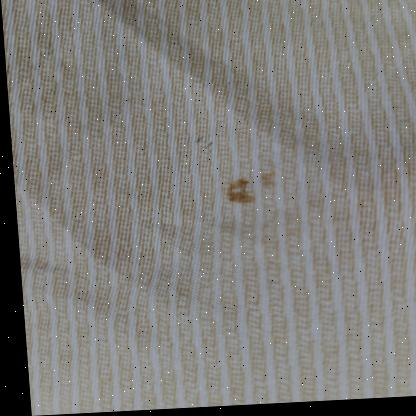spot: (212, 165, 279, 210), (185, 131, 218, 155)
